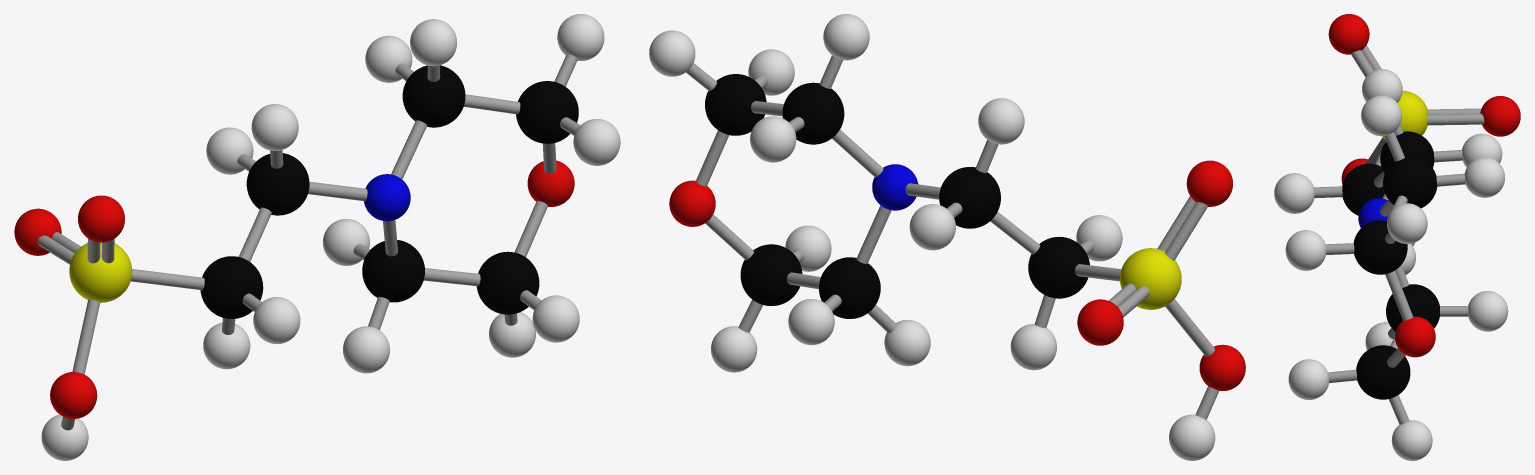
The model's file is MES.glb.
3 renders of one model, left to right at view 1: azimuth 30°, elevation 25°; view 2: azimuth 150°, elevation 25°; view 3: azimuth 270°, elevation 25°, orthographic. The views are drawn at different scales.
Parts seen in each view (by area): view 1: world; view 2: world; view 3: world.
Boxes of the visible parts, x1=… form: world: x1=14, y1=14, x2=620, y2=460; world: x1=649, y1=14, x2=1245, y2=460; world: x1=1274, y1=14, x2=1520, y2=460.
Size of the model in its own units: 8.43 by 5.2 by 3.62.
